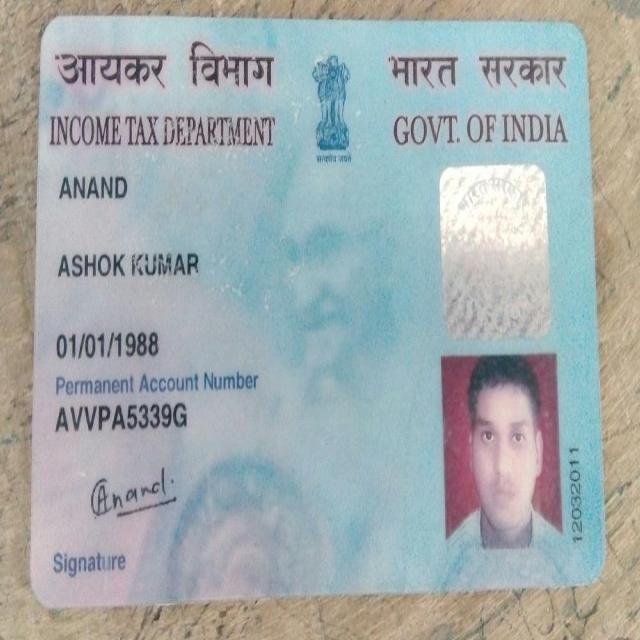pan_card: (38, 25, 600, 612)
